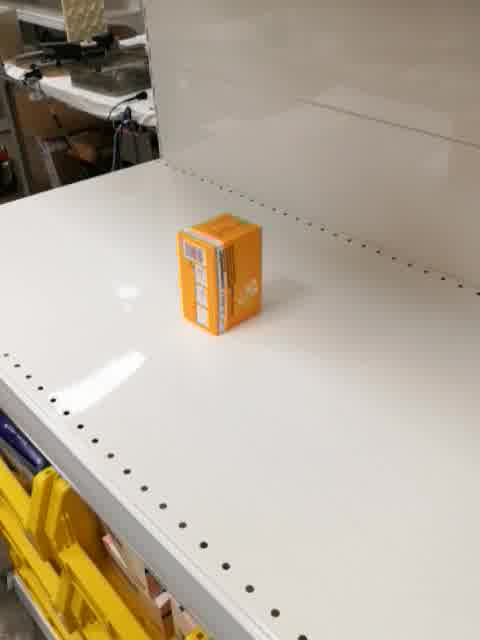jasminetea: (177, 213, 262, 337)
